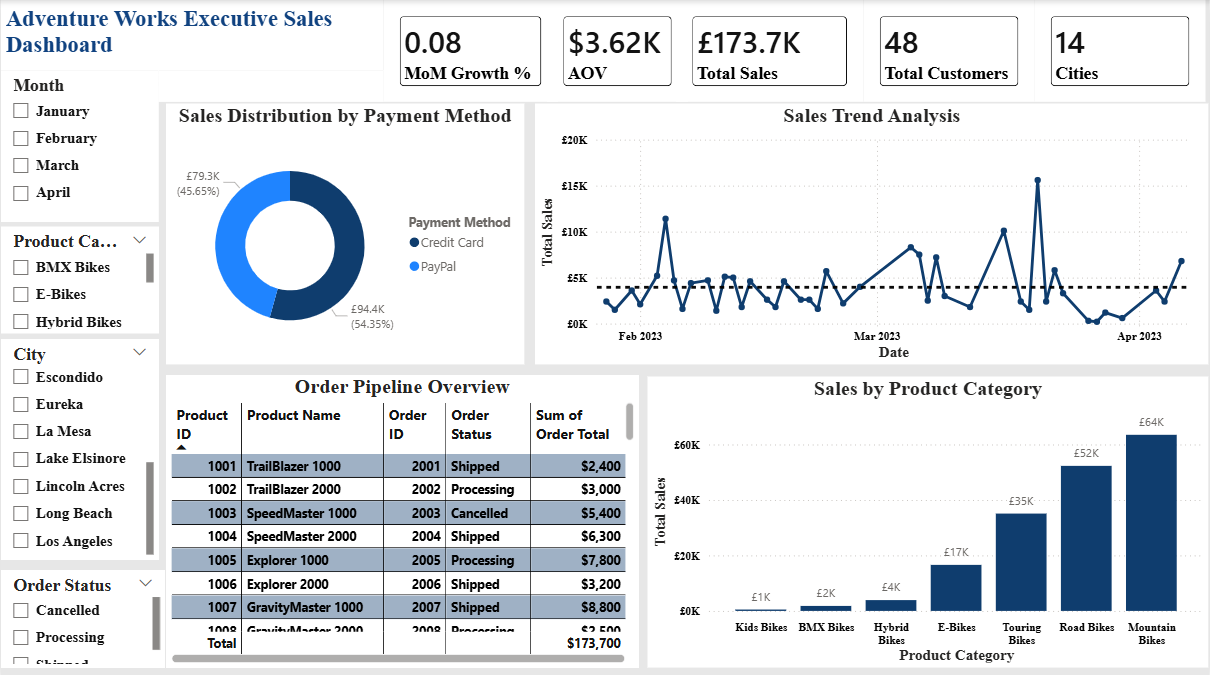

This screenshot's page, from the dashboard's own definition file:
{"tool":"powerbi","page":{"name":"Executive Dashboard ","canvas":[1280,720],"ordinal":0},"visuals":[{"type":"tableEx","title":"Order Pipeline Overview","fields":{"Values":["Sales.Product ID","Sales.Product Name","Sales.Order ID","Sales.Order Status","Sum(Sales.Order Total)"]},"box":[175,397.7,501,310.2],"z":0},{"type":"clusteredColumnChart","title":"Sales by Product Category","fields":{"Category":["Sales.Product Category"],"Y":["Sales.Total Sales"]},"box":[685.6,399.2,594.9,308.6],"z":1000},{"type":"lineChart","title":"Sales Trend Analysis","fields":{"Y":["Sales.Total Sales"],"Category":["DateTable.Date"]},"box":[566.3,109.8,714.2,276.8],"z":2000},{"type":"cardVisual","fields":{"Data":["Sales.Total Sales"]},"box":[715.8,0,198.8,108.2],"z":3000},{"type":"cardVisual","fields":{"Data":["Customers.Total Customers"]},"box":[914.6,0,181.3,108.2],"z":4000},{"type":"textbox","title":"Adventure Works Executive Sales Dashboard","box":[0,0,405.6,74.8],"z":5000},{"type":"cardVisual","fields":{"Data":["Customers.Cities"]},"box":[1095.9,0,181.3,108.2],"z":6000},{"type":"donutChart","title":"Sales Distribution by Payment Method","fields":{"Category":["Sales.Payment Method"],"Y":["Sales.Total Sales"]},"box":[175,109.8,380.2,276.8],"z":7000},{"type":"slicer","fields":{"Values":["DateTable.Month"]},"box":[0,74.8,167,160.7],"z":8000},{"type":"slicer","fields":{"Values":["Sales.Product Category"]},"box":[0,240.2,167,112.9],"z":9000},{"type":"slicer","fields":{"Values":["Customers.City"]},"box":[0,359.5,167,233.8],"z":10000},{"type":"slicer","fields":{"Values":["Sales.Order Status"]},"box":[0,604.4,173.4,103.4],"z":11000},{"type":"cardVisual","fields":{"Data":["Sales.AOV"]},"box":[579,0,149.5,108.2],"z":11001},{"type":"cardVisual","fields":{"Data":["Sales.MoM Growth %"]},"box":[405.6,0,184.5,108.2],"z":11002},{"type":"textbox","box":[167,74.8,238.6,33.4],"z":11004}]}

Visuals, with their boxes in screenshot pixels (x1, y1, x2, y2), scaled from the page's 1280x720 canvas onto the 1210x675 screenshot:
"Order Pipeline Overview" tableEx: [165, 373, 639, 664]
"Sales by Product Category" clusteredColumnChart: [648, 374, 1209, 664]
"Sales Trend Analysis" lineChart: [535, 103, 1209, 362]
cardVisual - Sales.Total Sales: [677, 0, 865, 101]
cardVisual - Customers.Total Customers: [865, 0, 1036, 101]
"Adventure Works Executive Sales Dashboard" textbox: [0, 0, 383, 70]
cardVisual - Customers.Cities: [1036, 0, 1207, 101]
"Sales Distribution by Payment Method" donutChart: [165, 103, 525, 362]
slicer - DateTable.Month: [0, 70, 158, 221]
slicer - Sales.Product Category: [0, 225, 158, 331]
slicer - Customers.City: [0, 337, 158, 556]
slicer - Sales.Order Status: [0, 567, 164, 664]
cardVisual - Sales.AOV: [547, 0, 689, 101]
cardVisual - Sales.MoM Growth %: [383, 0, 558, 101]
textbox: [158, 70, 383, 101]
